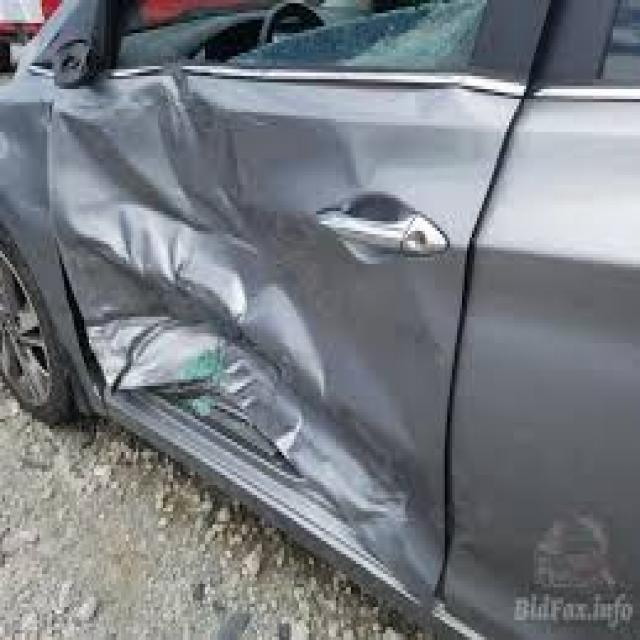damaged-door: (50, 4, 521, 608)
